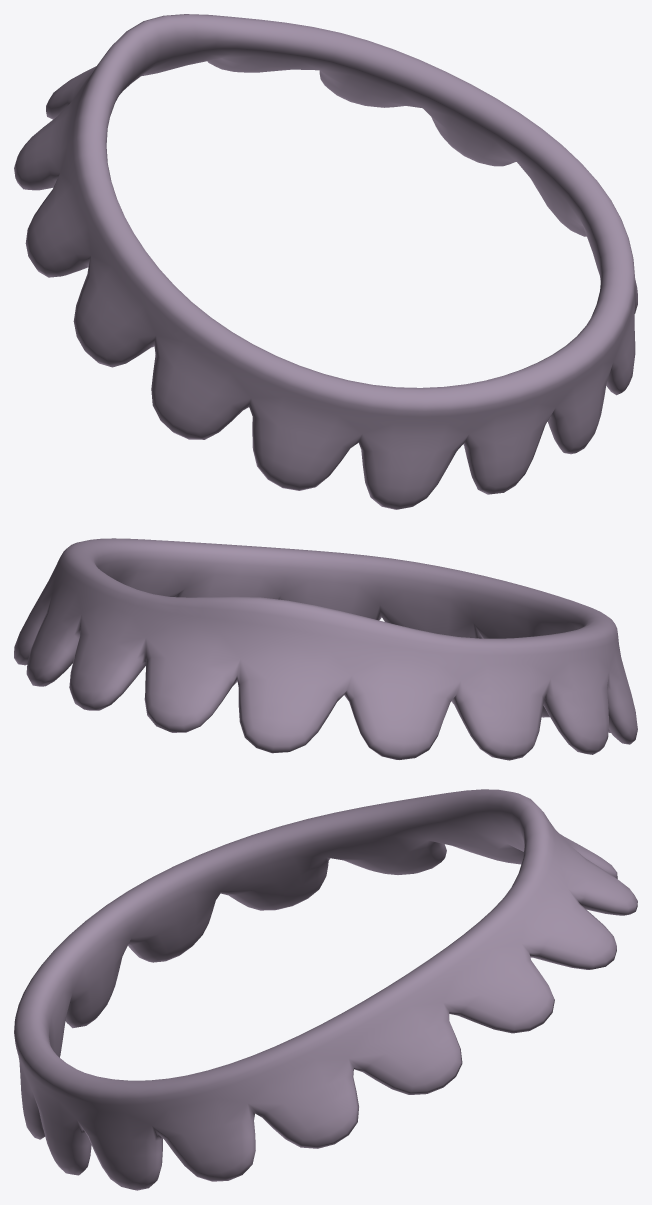
3 views of the same model, one above another, from view 1: azimuth 30°, elevation 25°; view 2: azimuth 150°, elevation 25°; view 3: azimuth 270°, elevation 25° (orthographic). The views are drawn at different scales.
Visible parts, largest first — view 1: 9_cancan_dress_body0_model0.009; view 2: 9_cancan_dress_body0_model0.009; view 3: 9_cancan_dress_body0_model0.009.
Part boxes in pixels (x1,y1,x2,y2): 9_cancan_dress_body0_model0.009: [14, 14, 637, 509]; 9_cancan_dress_body0_model0.009: [14, 538, 637, 760]; 9_cancan_dress_body0_model0.009: [14, 789, 637, 1190].
Size of the model in its own units: 4.81 by 2.7 by 5.29.
